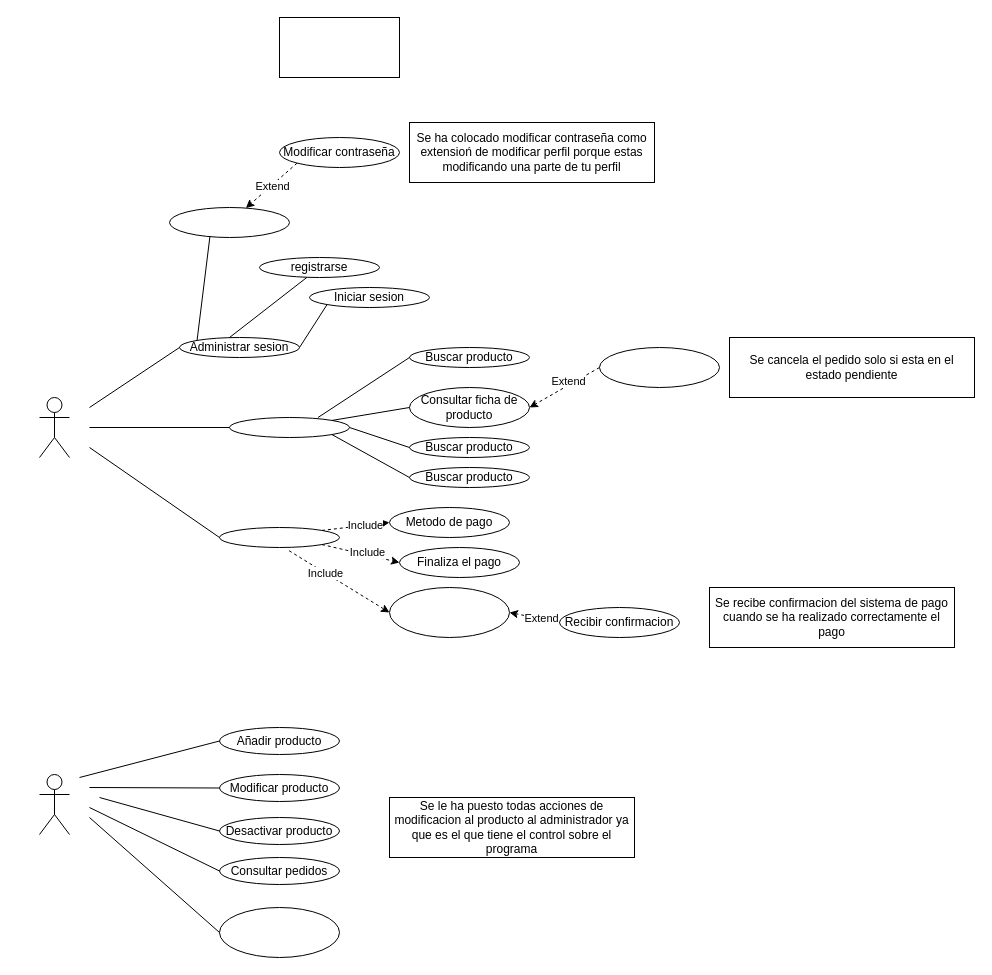
Some shapes in this 992 by 975 pixel diagram are drawn without their labels. The centre of each missing label's shape, as x and y in pixels:
"Administrador" belongs at pixel 54 804.
"Administrar producto" belongs at pixel 289 427.
"Cambiar estado del pedido" belongs at pixel 279 932.
"Cancelar pedido si esta pendiente" belongs at pixel 659 367.
"Comunicacion con el sistema de pago" belongs at pixel 449 612.
"Modificar perfil" belongs at pixel 229 222.
"Programa principal" belongs at pixel 339 47.
"Realizar pedido" belongs at pixel 279 537.
"Usuario" belongs at pixel 54 427.
